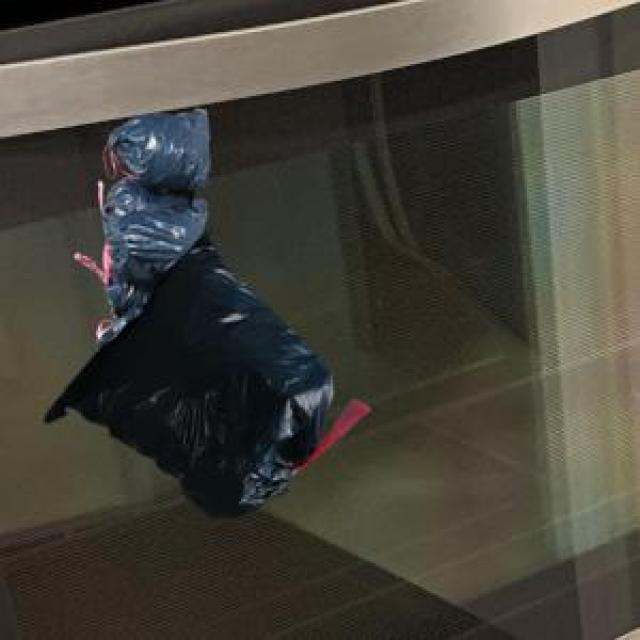Vinyl: (45, 112, 332, 513)
